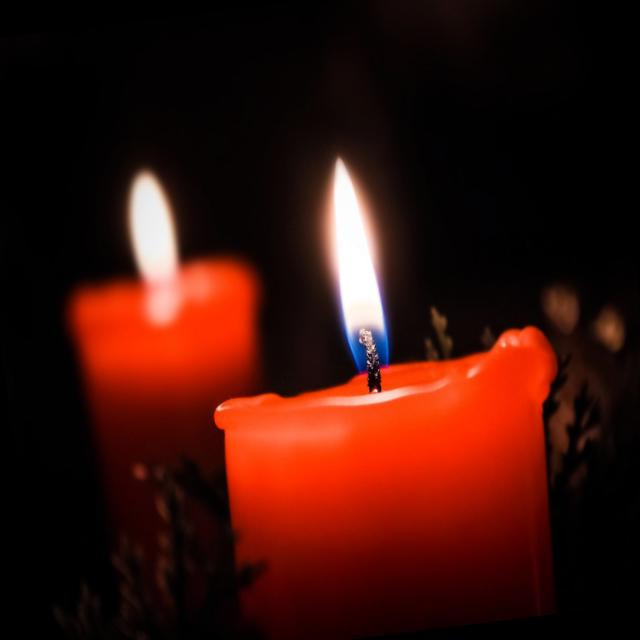Fire_Save: (183, 130, 588, 640), (48, 154, 300, 625)
